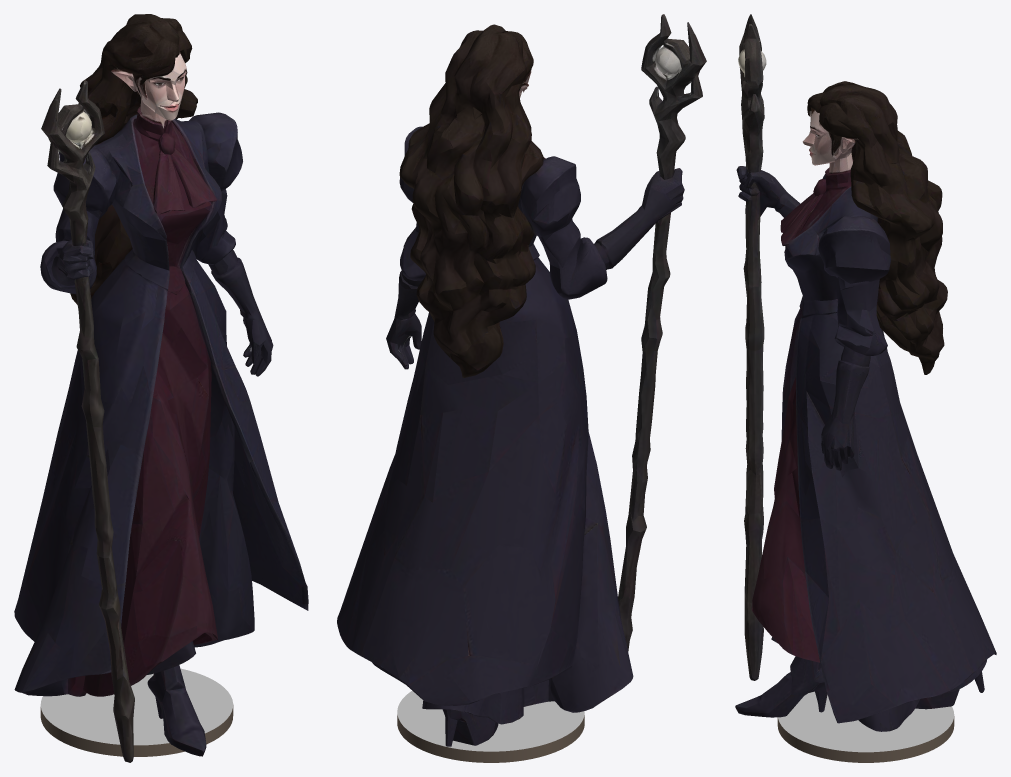
Rendered from pc_naaz.glb.
The picture shows the model from 3 angles, left to right: view 1: azimuth 30°, elevation 25°; view 2: azimuth 150°, elevation 25°; view 3: azimuth 270°, elevation 25°; orthographic projection. The views are drawn at different scales.
Visible parts, largest first — view 1: Naaz; view 2: Naaz; view 3: Naaz.
Boxes of the visible parts, x1=… form: Naaz: x1=14, y1=14, x2=308, y2=762; Naaz: x1=337, y1=14, x2=706, y2=762; Naaz: x1=735, y1=14, x2=996, y2=762.
Size of the model in its own units: 0.8567 by 1.86 by 0.6775.
3 materials, 1 textured.
